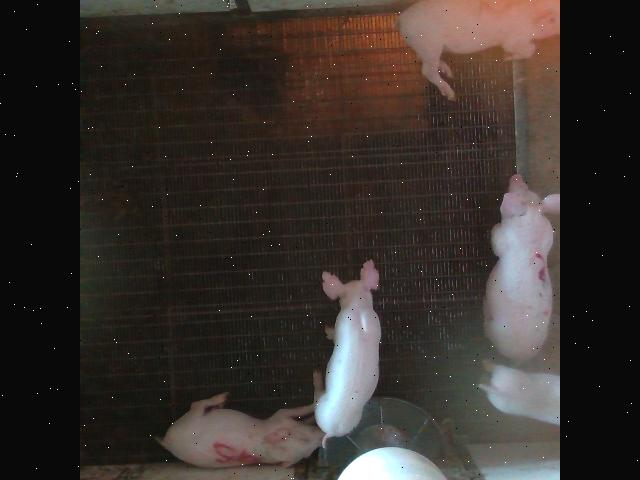pig-2: (396, 0, 559, 99)
pig-3: (484, 174, 559, 361)
pig-5: (156, 391, 324, 466)
